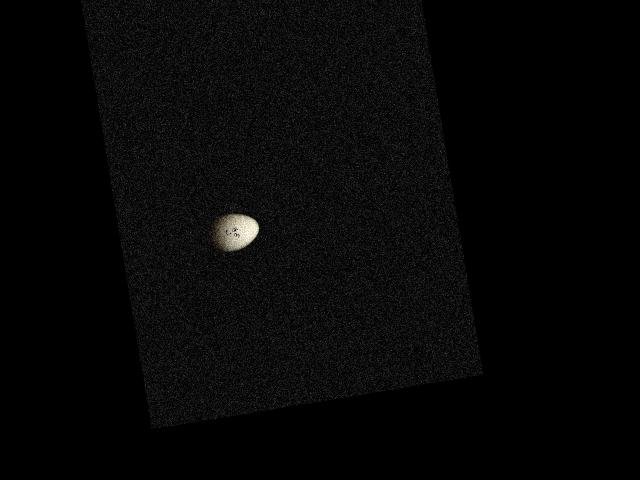egg: (207, 210, 262, 254)
